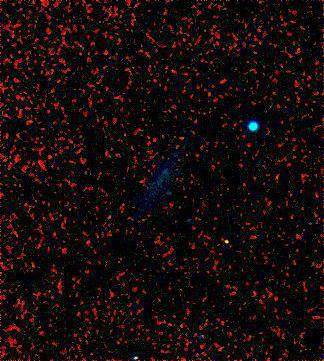star: (211, 227, 241, 257)
